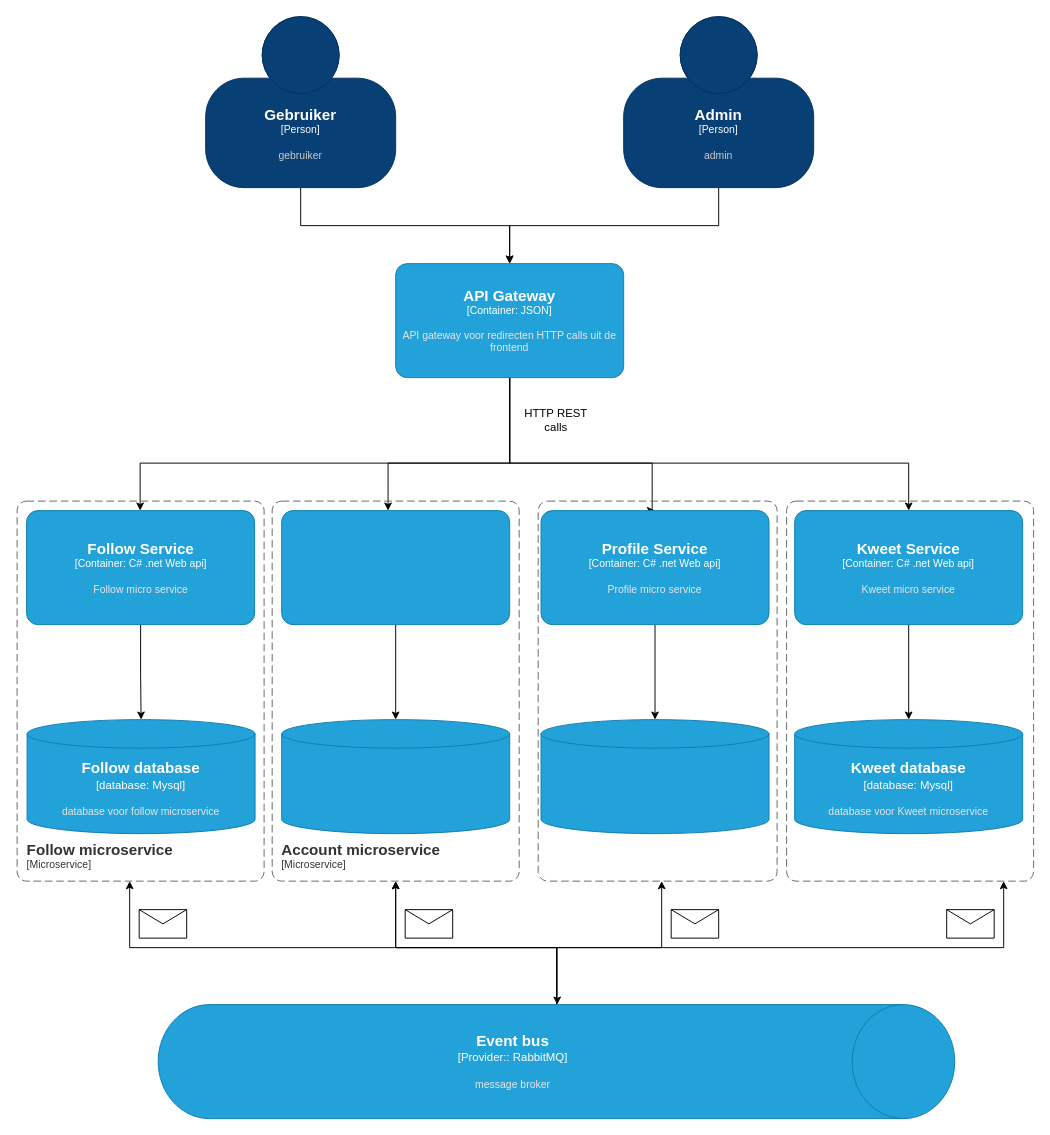
This 1050x1135 diagram has some shape labels left out. Here are the shapes that lost their labels. From the top down, the box of each, then its label:
(281, 510, 510, 625): Account Service [Container: C# .net Web api] Account micro service
(537, 500, 777, 881): Profile microservice [Microservice]
(786, 500, 1034, 881): Kweet microservice [Microservice]
(281, 719, 510, 834): Account database [database: Mysql] database voor Account microservice
(540, 719, 769, 834): Profile database [database: Mysql] database voor Profile microservice
